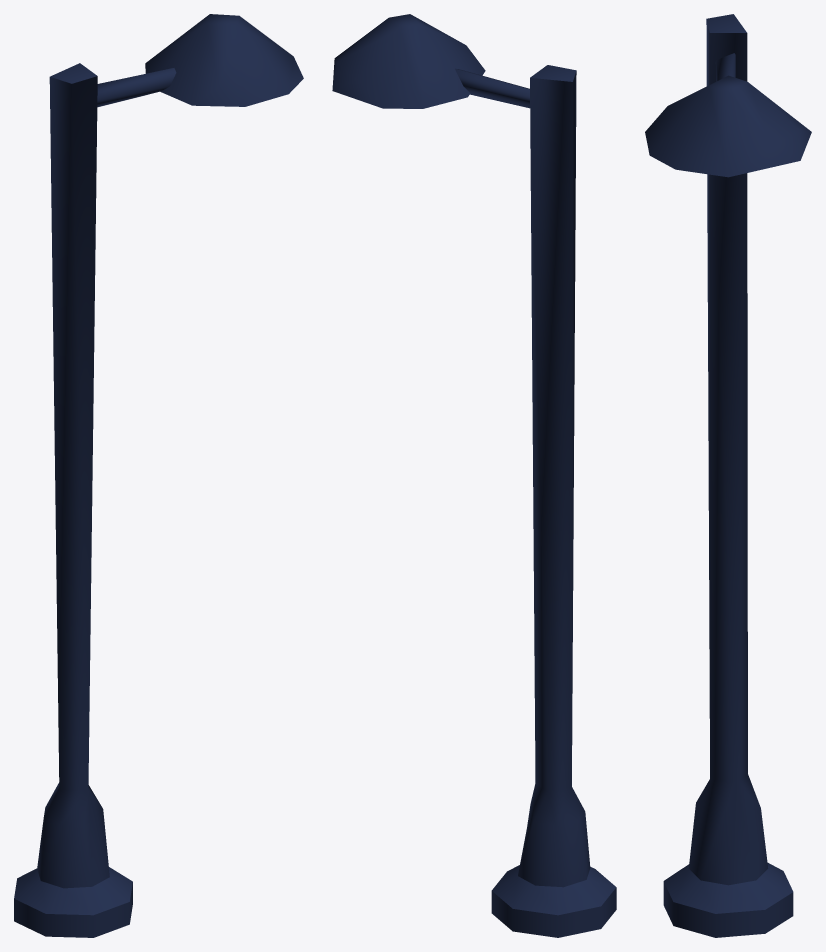
File: lamp.glb
The picture shows the model from 3 angles, left to right: view 1: azimuth 30°, elevation 25°; view 2: azimuth 150°, elevation 25°; view 3: azimuth 270°, elevation 25°; orthographic projection. The views are drawn at different scales.
Visible parts, largest first — view 1: lamp; view 2: lamp; view 3: lamp.
Part boxes in pixels (x1=…): lamp: x1=14, y1=14, x2=303, y2=937; lamp: x1=332, y1=14, x2=616, y2=937; lamp: x1=645, y1=14, x2=811, y2=937.
Size of the model in its own units: 1.01 by 3.01 by 0.5041.
1 material, 1 textured.
